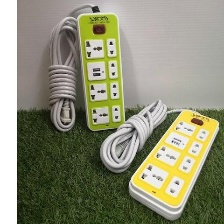three_eye_plug: (125, 107, 222, 222), (74, 8, 130, 134)
